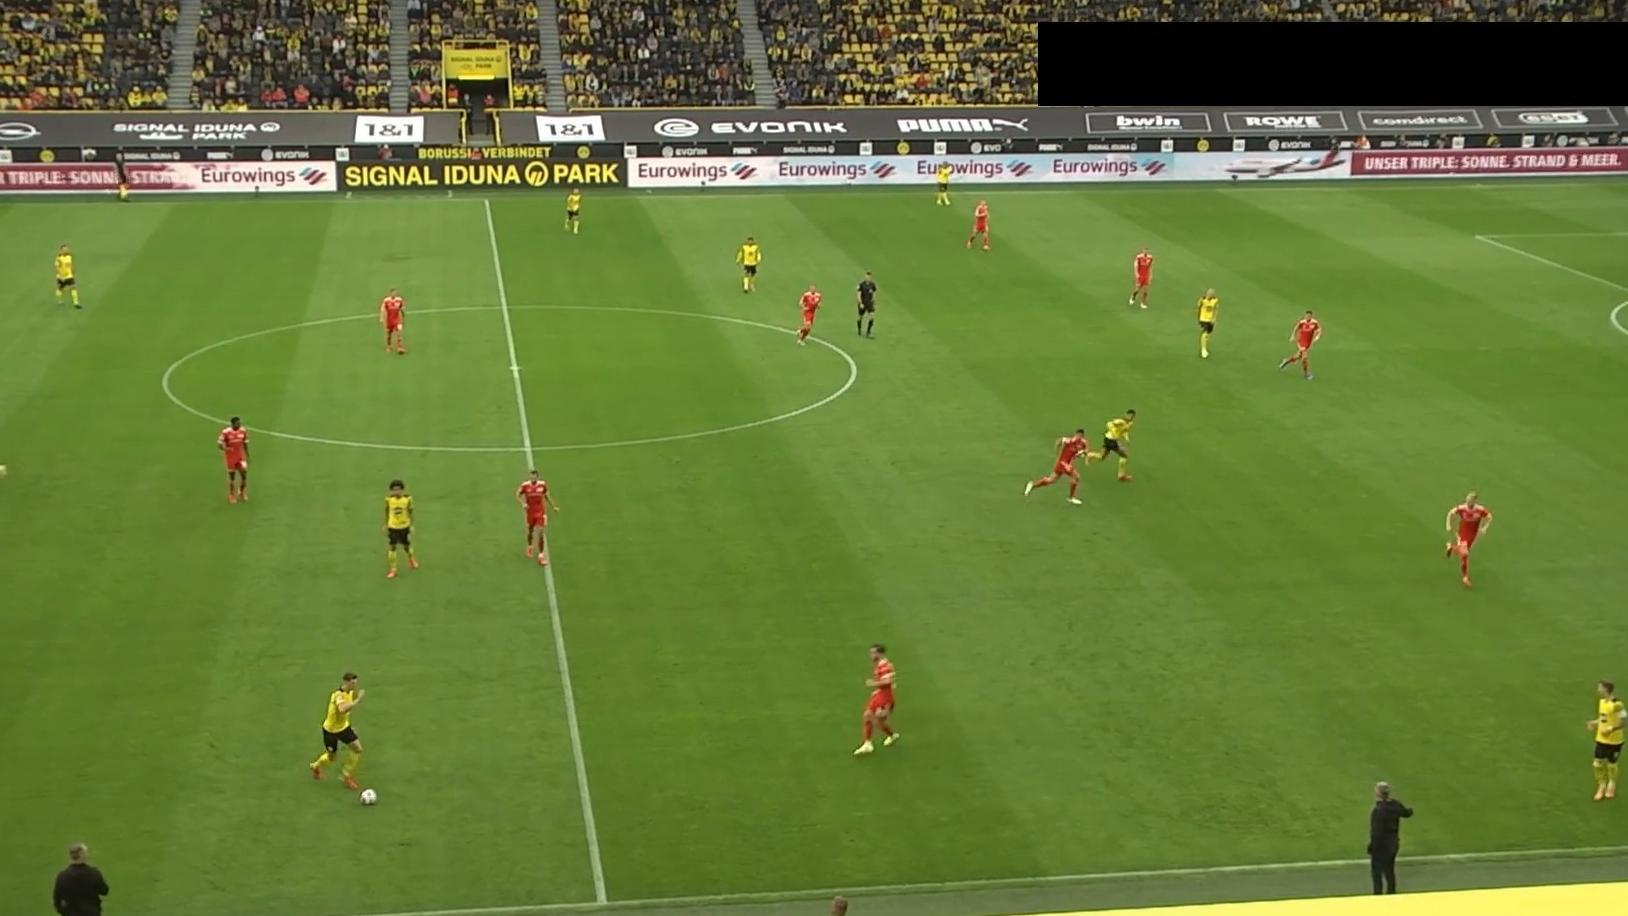ball: (358, 787, 378, 808)
